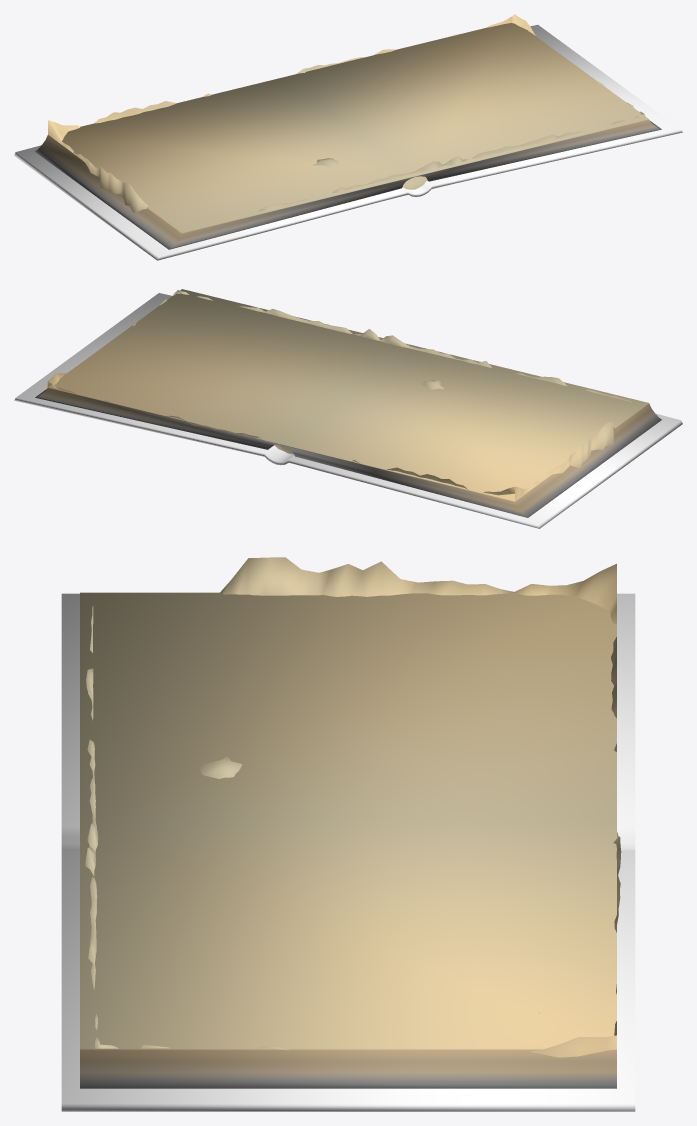
File: tutorial.fbx
The picture shows the model from 3 angles, top to bottom: view 1: azimuth 30°, elevation 25°; view 2: azimuth 150°, elevation 25°; view 3: azimuth 270°, elevation 25°; orthographic projection. The views are drawn at different scales.
Visible parts, largest first — view 1: FlatBook, Level; view 2: FlatBook, Level; view 3: FlatBook, Level.
Boxes of the visible parts, x1,y1,x2,y2 form: FlatBook: (14, 23, 682, 260); Level: (48, 14, 645, 226); FlatBook: (14, 289, 682, 528); Level: (47, 290, 631, 500); FlatBook: (61, 592, 635, 1111); Level: (85, 557, 621, 1057).
Bounding box in the file's own units: 93.25 × 6.35 × 44.04.
